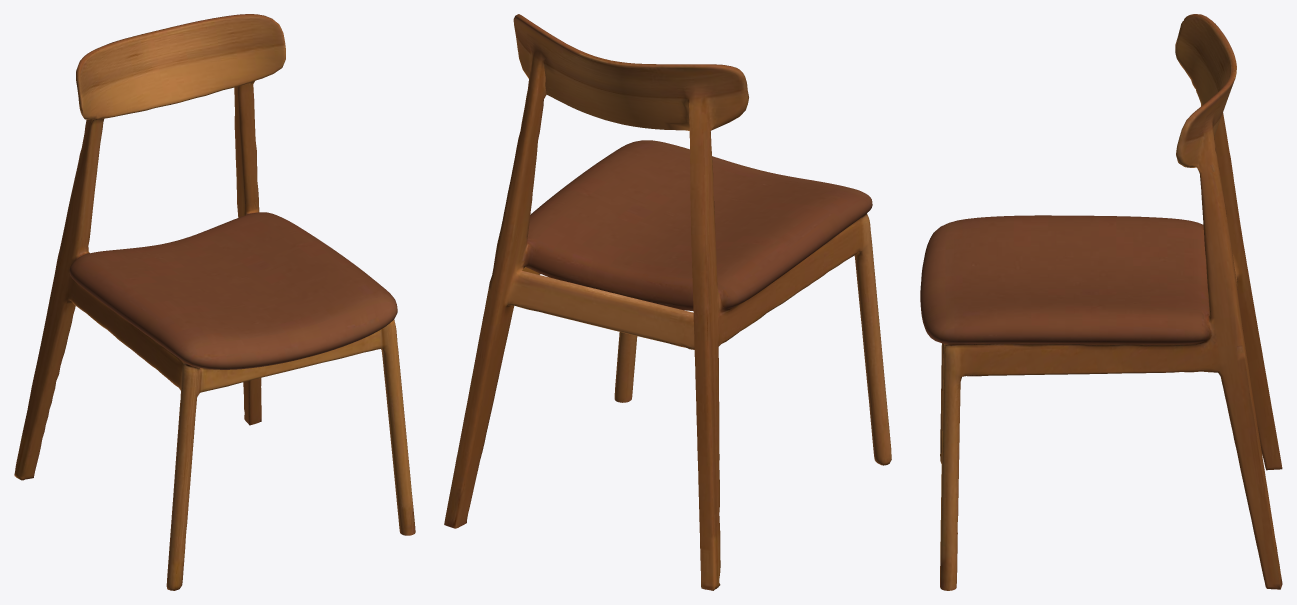
Rendered from bloco.glb.
The picture shows the model from 3 angles, left to right: view 1: azimuth 30°, elevation 25°; view 2: azimuth 150°, elevation 25°; view 3: azimuth 270°, elevation 25°; orthographic projection. The views are drawn at different scales.
Parts seen in each view (by area): view 1: Mesh_0; view 2: Mesh_0; view 3: Mesh_0.
Boxes of the visible parts, bbox=[...] form: Mesh_0: bbox=[14, 14, 415, 590]; Mesh_0: bbox=[444, 14, 891, 590]; Mesh_0: bbox=[920, 14, 1282, 590].
Bounding box in the file's own units: 1.13 × 1.91 × 1.35.
Materials: 1 (1 with a texture image).
